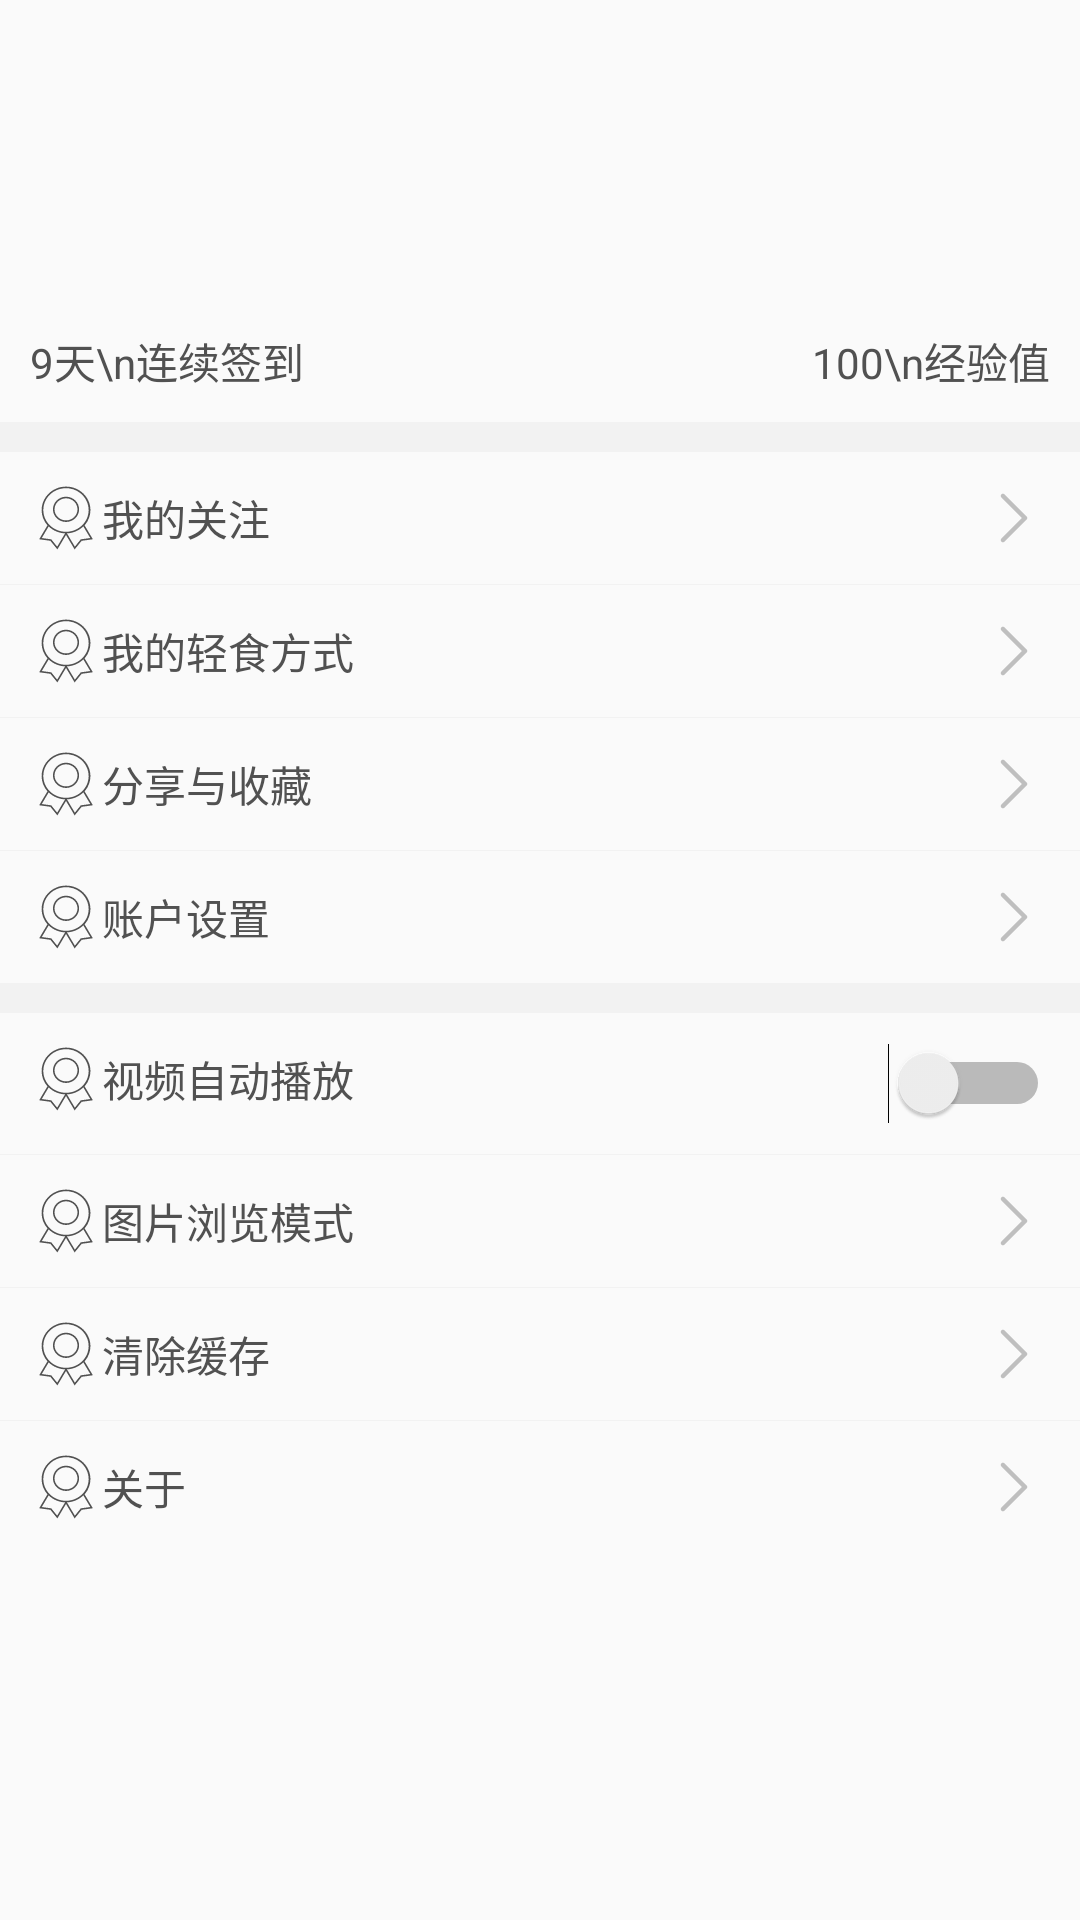

Named icons in this screenshot (1080w x 1920h) and their bounding boxes, (x1, y1, x2, y2):
arrow: (1001, 494, 1027, 542), (1001, 627, 1027, 675), (1001, 760, 1027, 808), (1001, 893, 1027, 941), (1001, 1197, 1027, 1245), (1001, 1330, 1027, 1378), (1001, 1463, 1027, 1511)
